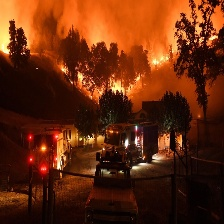fire: (59, 63, 103, 106), (151, 43, 178, 70), (123, 74, 143, 97), (199, 33, 218, 43)
smoke: (33, 3, 209, 58)
